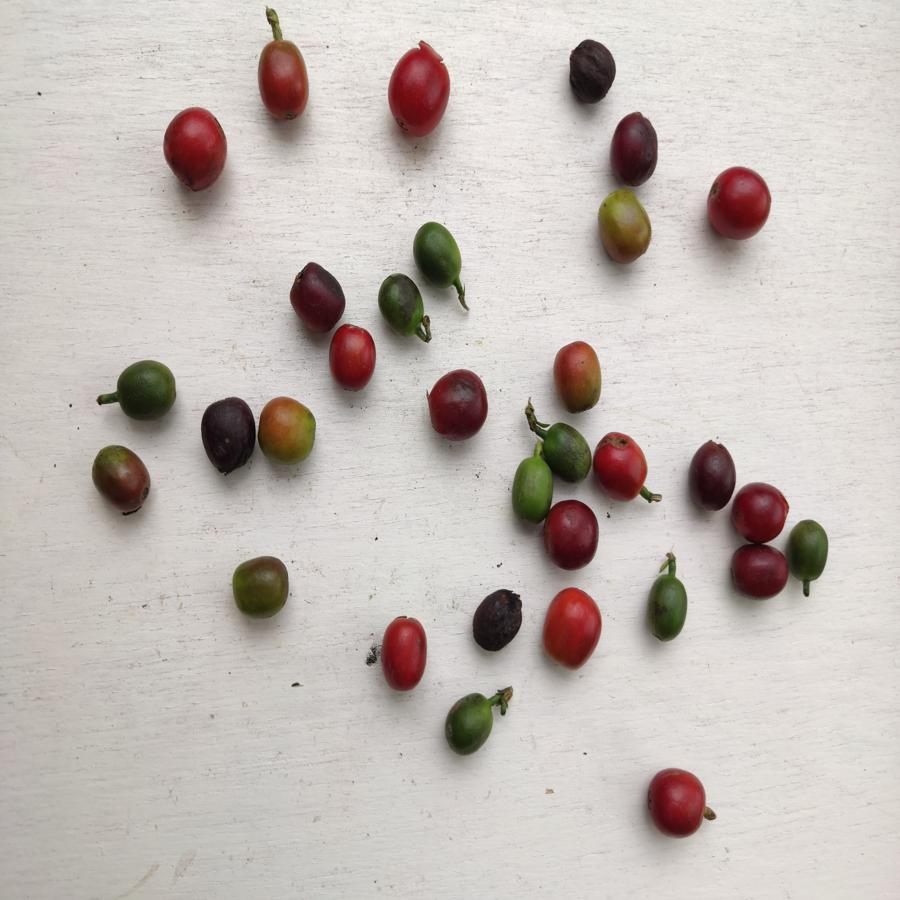Inmaduro: (443, 688, 499, 760), (116, 358, 177, 423), (408, 221, 465, 289), (374, 271, 428, 339), (534, 421, 590, 486), (643, 568, 688, 645), (510, 452, 551, 520), (790, 518, 829, 586)
Maduro: (157, 105, 232, 192), (386, 47, 455, 139), (704, 165, 775, 242), (642, 763, 712, 841), (544, 581, 604, 671), (255, 34, 315, 123), (378, 611, 435, 696), (591, 431, 650, 510), (327, 320, 379, 398)
Pinton: (596, 187, 654, 265), (91, 444, 156, 513), (550, 336, 602, 416), (259, 394, 317, 465), (232, 555, 289, 618)
Sobremaduro: (425, 364, 493, 446), (285, 259, 348, 330), (200, 397, 257, 471), (609, 112, 664, 186), (564, 35, 618, 108), (545, 499, 601, 569), (729, 545, 790, 603), (471, 585, 523, 653), (732, 482, 788, 544), (692, 441, 736, 510)
